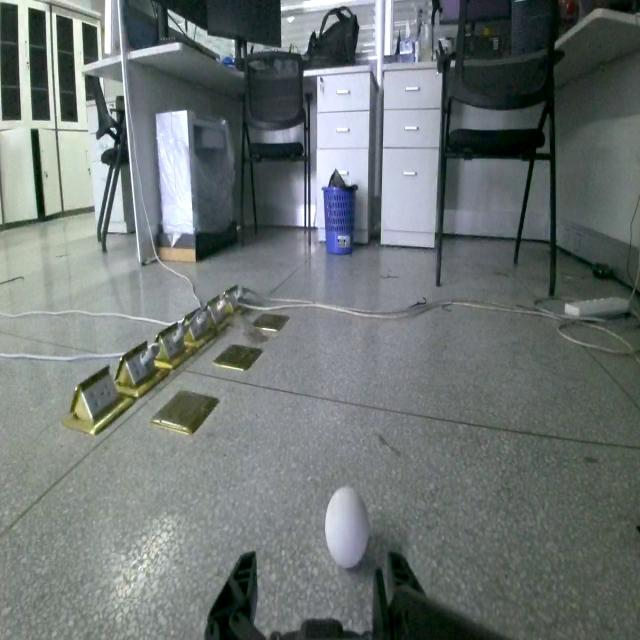ball1: (324, 481, 371, 572)
